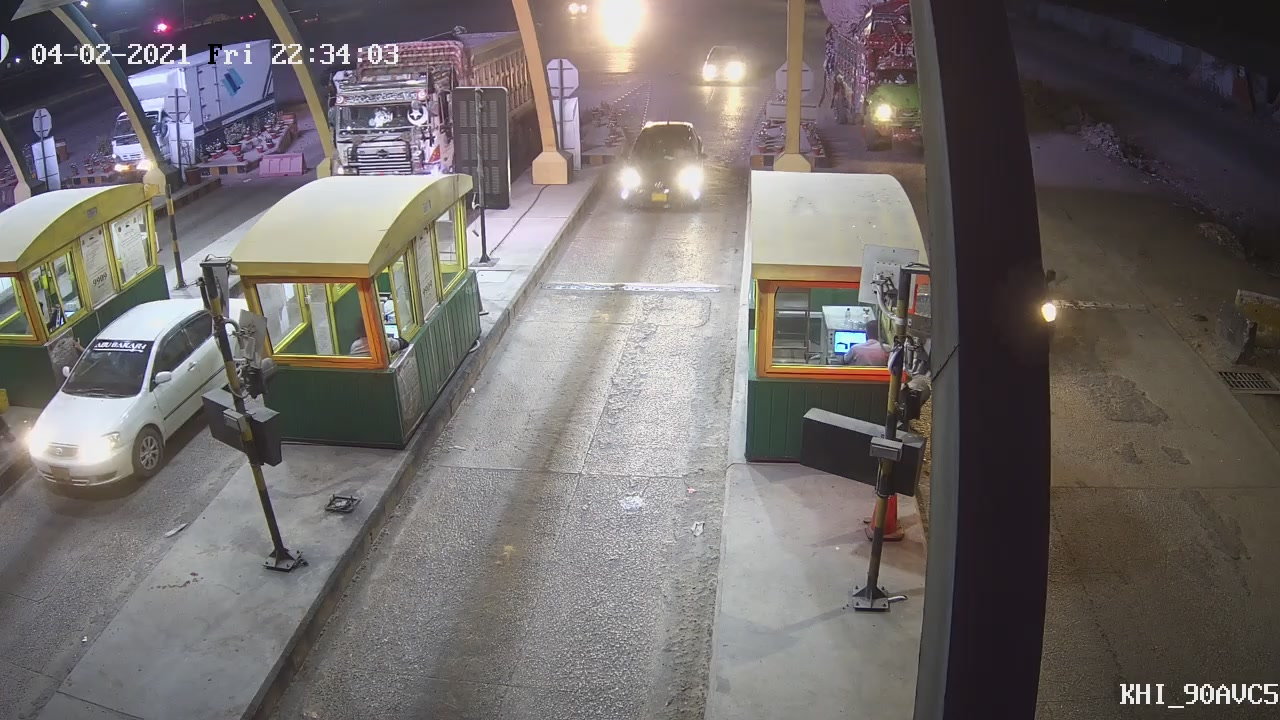F1: (613, 115, 710, 214)
